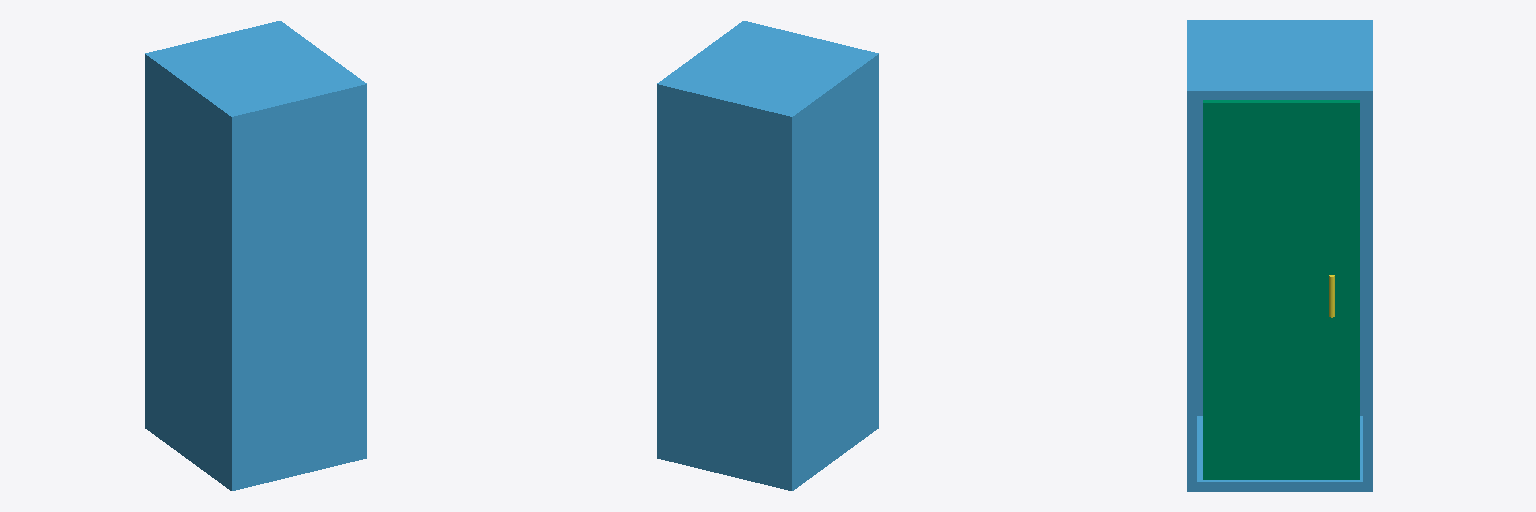
URDF robot description (my_cabinet):
<?xml version="1.0" ?>
<robot name="my_cabinet">
	<link name="world"/>
	<joint name="virtual_joint" type="fixed">
		<parent link="world"/>
		<child link="base_cabinet_link"/>
		<origin xyz="0.0 0.0 0.0" rpy="0.0 0.0 0.0"/>
	</joint>
	<link name="base_cabinet_link">
		<visual>
			<origin xyz="0.0 -0.0025 -0.3865670645546182" rpy="0.0 0.0 0.0"/>
			<geometry>
				<box size="0.3 0.3323999128482352 0.018"/>
			</geometry>
		</visual>
		<collision name="base_cabinet_link_collision_0">
			<origin xyz="0.0 -0.0025 -0.3865670645546182" rpy="0.0 0.0 0.0"/>
			<geometry>
				<box size="0.3 0.3323999128482352 0.018"/>
			</geometry>
		</collision>
		<visual>
			<origin xyz="0.0 0.15469995642411763 0.0" rpy="0.0 0.0 0.0"/>
			<geometry>
				<box size="0.3 0.018 0.7911341291092364"/>
			</geometry>
		</visual>
		<collision name="base_cabinet_link_collision_1">
			<origin xyz="0.0 0.15469995642411763 0.0" rpy="0.0 0.0 0.0"/>
			<geometry>
				<box size="0.3 0.018 0.7911341291092364"/>
			</geometry>
		</collision>
		<visual>
			<origin xyz="0.0 -0.15969995642411763 0.0" rpy="0.0 0.0 0.0"/>
			<geometry>
				<box size="0.3 0.018 0.7911341291092364"/>
			</geometry>
		</visual>
		<collision name="base_cabinet_link_collision_2">
			<origin xyz="0.0 -0.15969995642411763 0.0" rpy="0.0 0.0 0.0"/>
			<geometry>
				<box size="0.3 0.018 0.7911341291092364"/>
			</geometry>
		</collision>
		<visual>
			<origin xyz="0.0 -0.0025 0.3865670645546182" rpy="0.0 0.0 0.0"/>
			<geometry>
				<box size="0.3 0.3323999128482352 0.018"/>
			</geometry>
		</visual>
		<collision name="base_cabinet_link_collision_3">
			<origin xyz="0.0 -0.0025 0.3865670645546182" rpy="0.0 0.0 0.0"/>
			<geometry>
				<box size="0.3 0.3323999128482352 0.018"/>
			</geometry>
		</collision>
		<visual>
			<origin xyz="-0.141 -0.0025 0.0" rpy="0.0 0.0 0.0"/>
			<geometry>
				<box size="0.018 0.3323999128482352 0.7911341291092364"/>
			</geometry>
		</visual>
		<collision name="base_cabinet_link_collision_4">
			<origin xyz="-0.141 -0.0025 0.0" rpy="0.0 0.0 0.0"/>
			<geometry>
				<box size="0.018 0.3323999128482352 0.7911341291092364"/>
			</geometry>
		</collision>
		<inertial>
			<mass value="0.200000"/>
			<inertia ixx="0.012273" ixy="0.0" ixz="0.0" iyy="0.011932" iyz="0.0" izz="0.003341"/>
		</inertial>
	</link>
	<link name="door_link">
		<visual>
			<origin xyz="0.0 -0.14069995642411762 0.0"/>
			<geometry>
				<box size="0.018 0.28139991284823523 0.7451341291092364"/>
			</geometry>
		</visual>
		<collision name="door_link_collision">
			<origin xyz="0.0 -0.14069995642411762 0.0"/>
			<geometry>
				<box size="0.018 0.28139991284823523 0.7451341291092364"/>
			</geometry>
		</collision>
		<inertial>
			<mass value="0.200000"/>
			<inertia ixx="0.010574" ixy="0.0" ixz="0.0" iyy="0.009259" iyz="0.0" izz="0.001325"/>
		</inertial>
	</link>
	<joint name="door_joint" type="revolute">
		<origin xyz="0.141 -0.14069995642411762 0.0" rpy="0.000000 -0.000000 3.141593"/>
		<axis xyz="0 0 1"/>
		<parent link="base_cabinet_link"/>
		<child link="door_link"/>
		<limit effort="50" lower="-1.658062789394613" upper="0" velocity="10"/>
		<dynamics friction="3.5" damping="3.5"/>
	</joint>
	<link name="handle_link">
		<visual>
			<origin xyz="0.0 0.0 0.0" rpy="0.0 0.0 0.0"/>
			<geometry>
				<cylinder length="0.08" radius="0.005"/>
			</geometry>
		</visual>
		<collision name="handle_link_collision_0">
			<origin xyz="0.0 0.0 0.0" rpy="0.0 0.0 0.0"/>
			<geometry>
				<cylinder length="0.08" radius="0.005"/>
			</geometry>
		</collision>
		<visual>
			<origin xyz="-0.01 0.0 0.02" rpy="0.0 1.5707963267948966 0.0"/>
			<geometry>
				<cylinder length="0.02" radius="0.003"/>
			</geometry>
		</visual>
		<collision name="handle_link_collision_1">
			<origin xyz="-0.01 0.0 0.02" rpy="0.0 1.5707963267948966 0.0"/>
			<geometry>
				<cylinder length="0.01" radius="0.003"/>
			</geometry>
		</collision>
		<visual>
			<origin xyz="-0.01 0.0 -0.02" rpy="0.0 1.5707963267948966 0.0"/>
			<geometry>
				<cylinder length="0.02" radius="0.003"/>
			</geometry>
		</visual>
		<collision name="handle_link_collision_2">
			<origin xyz="-0.01 0.0 -0.02" rpy="0.0 1.5707963267948966 0.0"/>
			<geometry>
				<cylinder length="0.02" radius="0.003"/>
			</geometry>
		</collision>
		<inertial>
			<mass value="0.050000"/>
			<inertia ixx="0.000027" ixy="0.0" ixz="0.0" iyy="0.000029" iyz="0.0" izz="0.000003"/>
		</inertial>
	</link>
	<joint name="handle_joint" type="fixed">
		<origin xyz="-0.028999999999999998 -0.23139991284823525 0.0" rpy="0.000000 -0.000000 3.141593"/>
		<parent link="door_link"/>
		<child link="handle_link"/>
	</joint>
	<gazebo reference="base_cabinet_link">
		<sensor name="main_sensor" type="contact">
			<selfCollide>true</selfCollide>
			<alwaysOn>true</alwaysOn>
			<updateRate>5.0</updateRate>
			<material>Gazebo/Red</material>
			<contact>
				<collision>base_cabinet_link_collision_0_collision</collision>
				<collision>base_cabinet_link_collision_1_collision</collision>
				<collision>base_cabinet_link_collision_2_collision</collision>
				<collision>base_cabinet_link_collision_3_collision</collision>
				<collision>base_cabinet_link_collision_4_collision</collision>
			</contact>
			<plugin name="gazebo_ros_bumper_controller" filename="libgazebo_ros_bumper.so">
				<bumperTopicName>/contact</bumperTopicName>
				<frameName>world</frameName>
			</plugin>
		</sensor>
	</gazebo>
	<gazebo reference="door_link">
		<sensor name="main_sensor" type="contact">
			<selfCollide>true</selfCollide>
			<alwaysOn>true</alwaysOn>
			<updateRate>5.0</updateRate>
			<material>Gazebo/Red</material>
			<contact>
				<collision>door_link_collision_collision</collision>
			</contact>
			<plugin name="gazebo_ros_bumper_controller" filename="libgazebo_ros_bumper.so">
				<bumperTopicName>/contact_door</bumperTopicName>
				<frameName>contact_door</frameName>
			</plugin>
		</sensor>
	</gazebo>
	<gazebo reference="door_link">
		<mu>3.0</mu>
		<mu2>3.0</mu2>
		<kp>10000000</kp>
		<kd>100</kd>
	</gazebo>
</robot>

--- What the picture shows (computed from the rendered views, not written in the file) ---
The picture shows the robot from 3 angles, left to right: view 1: azimuth 30°, elevation 25°; view 2: azimuth 150°, elevation 25°; view 3: azimuth 270°, elevation 25°; orthographic projection.
Robot: my_cabinet — 4 links, 3 joints (1 revolute, 2 fixed); root link world; default pose: every joint at zero.
Links seen in each view (by area): view 1: base_cabinet_link; view 2: base_cabinet_link; view 3: door_link, base_cabinet_link.
Link boxes in pixels (x1,y1,x2,y2): base_cabinet_link: [145, 21, 366, 490]; base_cabinet_link: [657, 21, 878, 490]; door_link: [1203, 100, 1359, 479]; base_cabinet_link: [1187, 20, 1372, 491].
Size in the robot's own frame: 0.325 by 0.3324 by 0.7911 metres.
Geometry: primitives only (box / cylinder / sphere), no mesh files.
